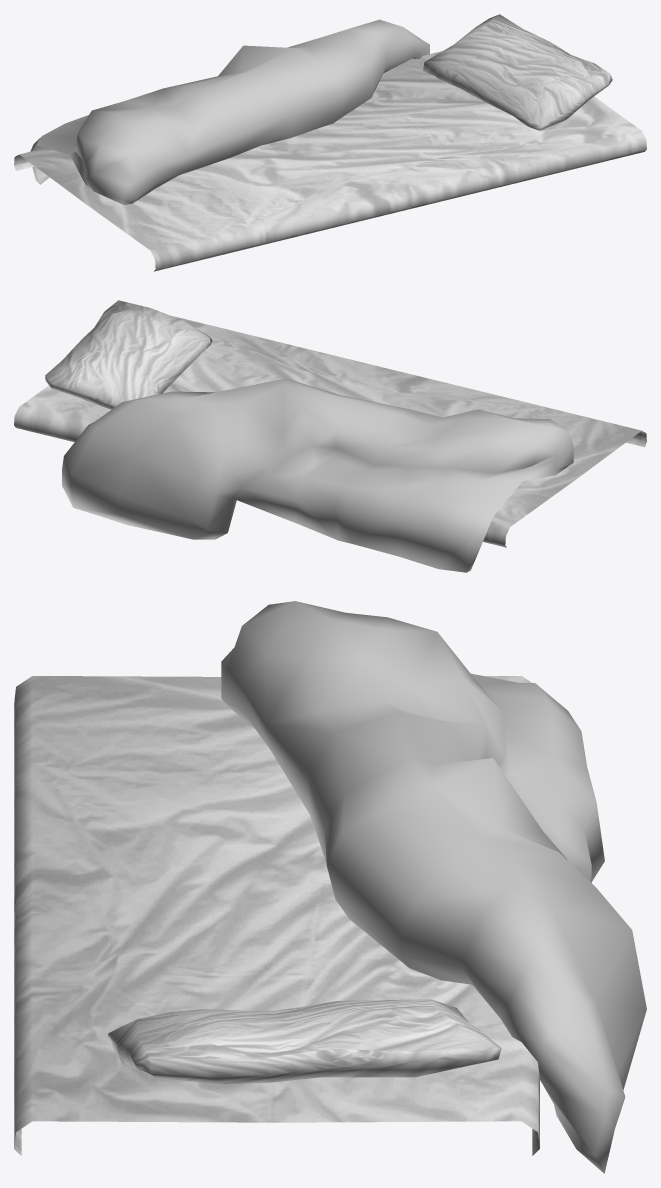
The model's file is Bed.FBX.
3 renders of one model, top to bottom at view 1: azimuth 30°, elevation 25°; view 2: azimuth 150°, elevation 25°; view 3: azimuth 270°, elevation 25°, orthographic. The views are drawn at different scales.
Visible parts, largest first — view 1: mattress, blanket, pillow; view 2: blanket, mattress, pillow; view 3: mattress, blanket, pillow.
Boxes of the visible parts, box(x1,y1,x2,y2) form: mattress: box(14, 51, 646, 271); blanket: box(30, 19, 429, 205); pillow: box(423, 14, 612, 130); blanket: box(62, 379, 573, 572); mattress: box(14, 315, 646, 547); pillow: box(45, 300, 212, 409); mattress: box(14, 676, 539, 1155); blanket: box(221, 601, 646, 1173); pillow: box(107, 999, 501, 1084).
Size of the model in its own units: 2850 by 1702 by 761.
